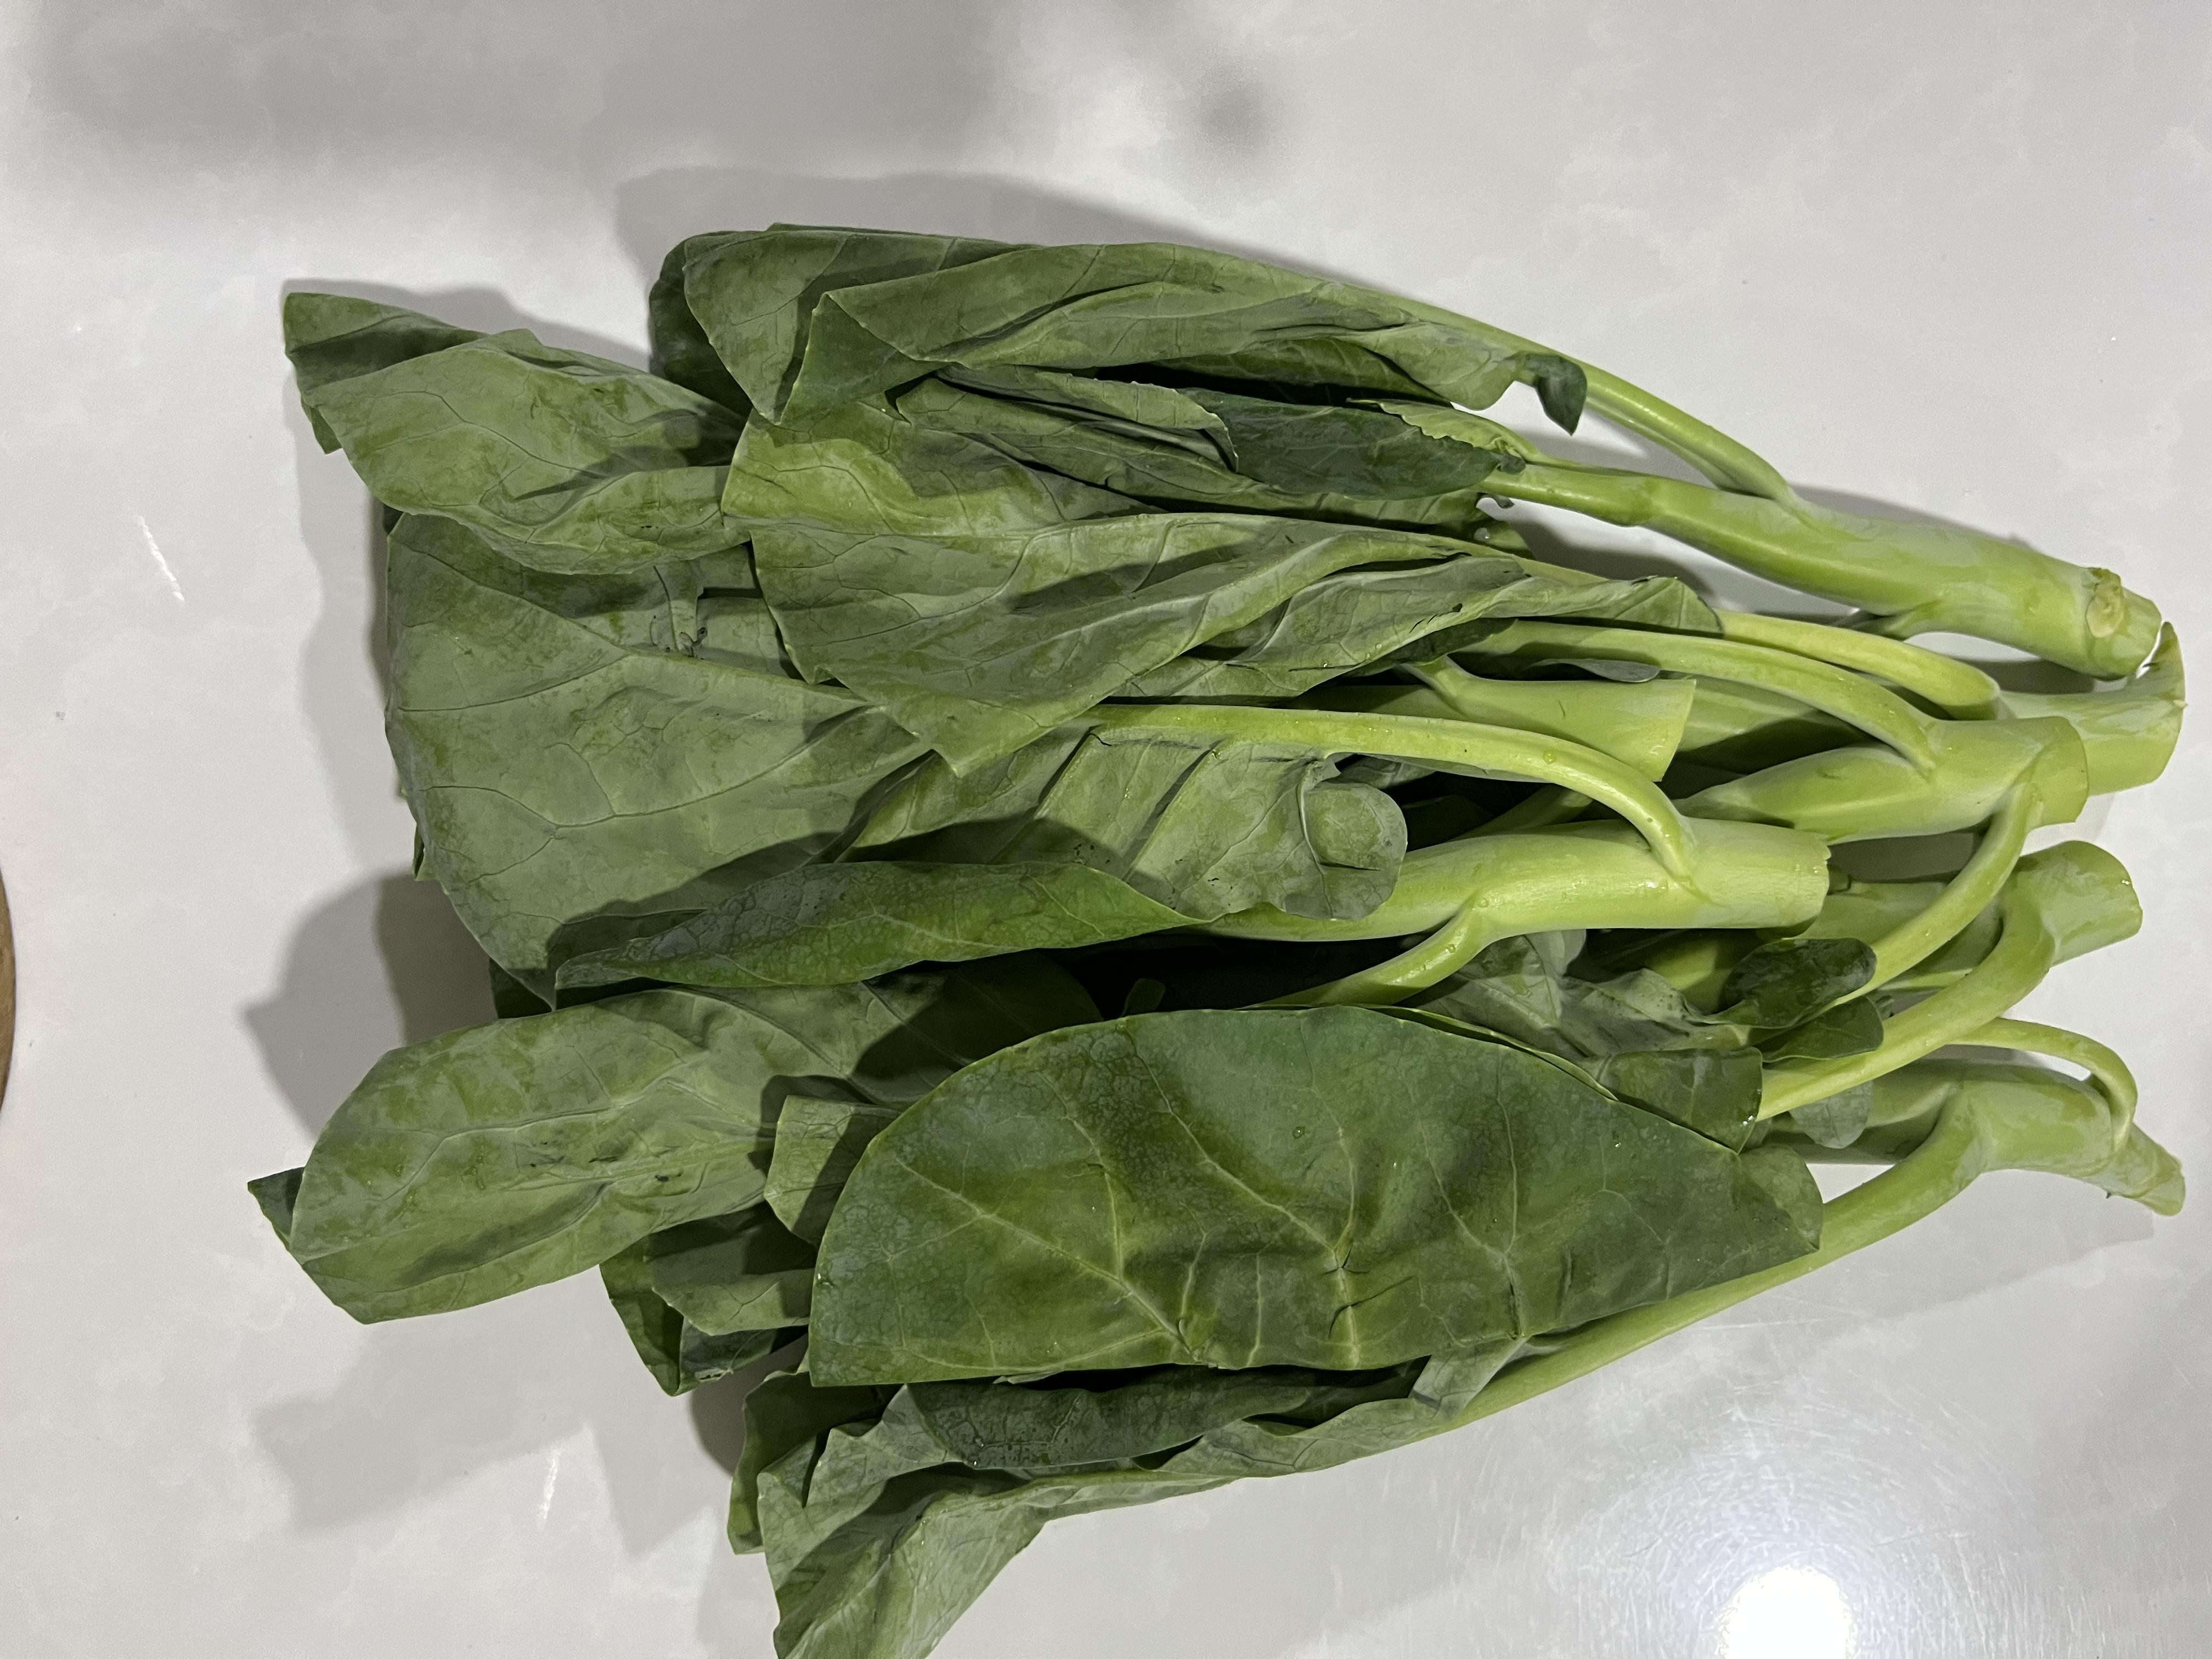Healthy-Pechay: (176, 38, 2118, 1514)
